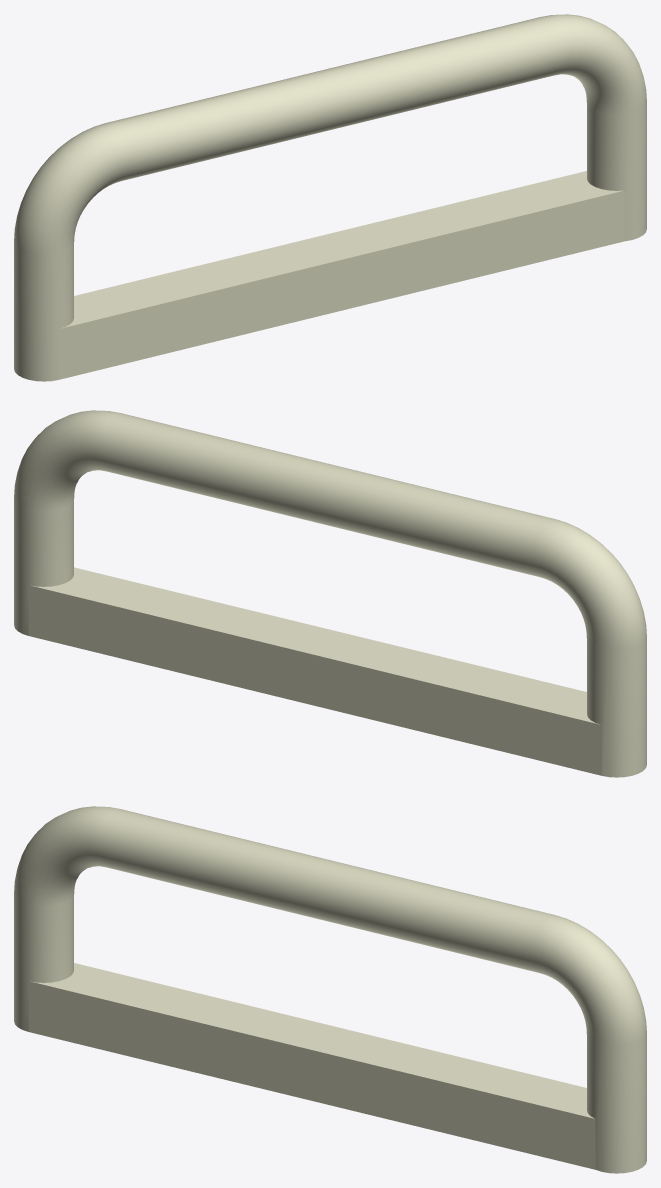
The model's file is original-6.obj.
The picture shows the model from 3 angles, top to bottom: view 1: azimuth 30°, elevation 25°; view 2: azimuth 150°, elevation 25°; view 3: azimuth 330°, elevation 25°; orthographic projection.
Visible parts, largest first — view 1: Group5/mesh9/mesh9-geometry#mesh9-geometry; view 2: Group5/mesh9/mesh9-geometry#mesh9-geometry; view 3: Group5/mesh9/mesh9-geometry#mesh9-geometry.
Boxes of the visible parts, <box> form: Group5/mesh9/mesh9-geometry#mesh9-geometry: <box>14,14,646,381</box>; Group5/mesh9/mesh9-geometry#mesh9-geometry: <box>14,410,646,777</box>; Group5/mesh9/mesh9-geometry#mesh9-geometry: <box>14,806,646,1173</box>.
Bounding box in the file's own units: 0.2069 × 0.0719 × 0.0172.
